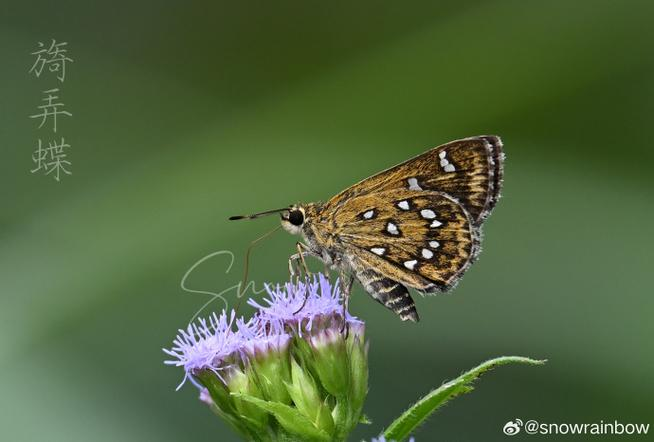Hesperiidae: (230, 131, 510, 331)
